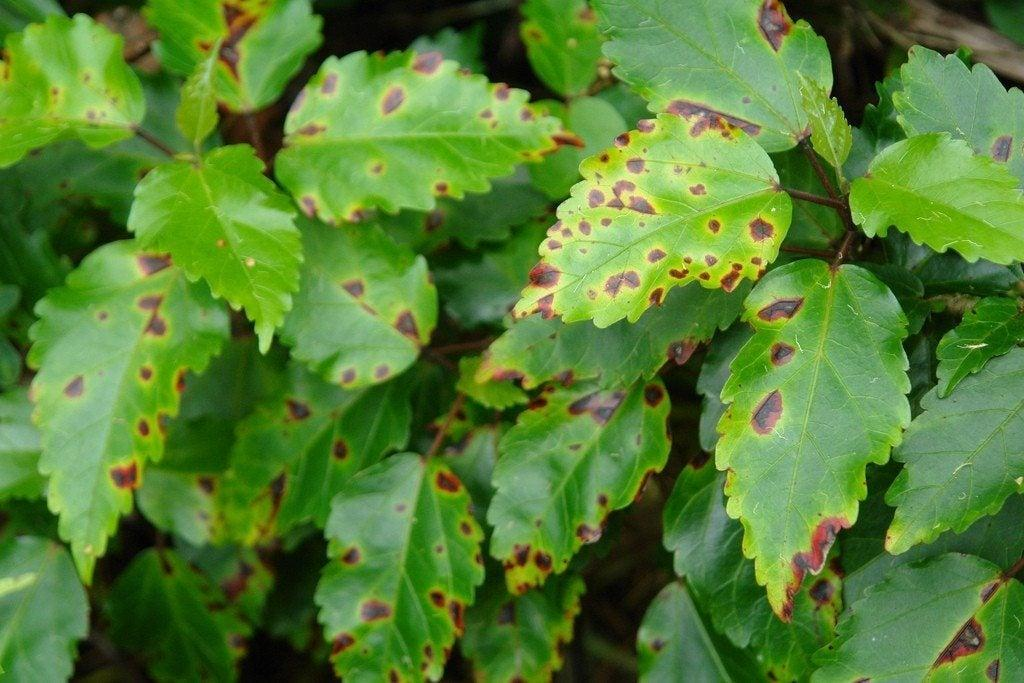black-spot: (589, 153, 720, 284), (742, 269, 812, 460)
